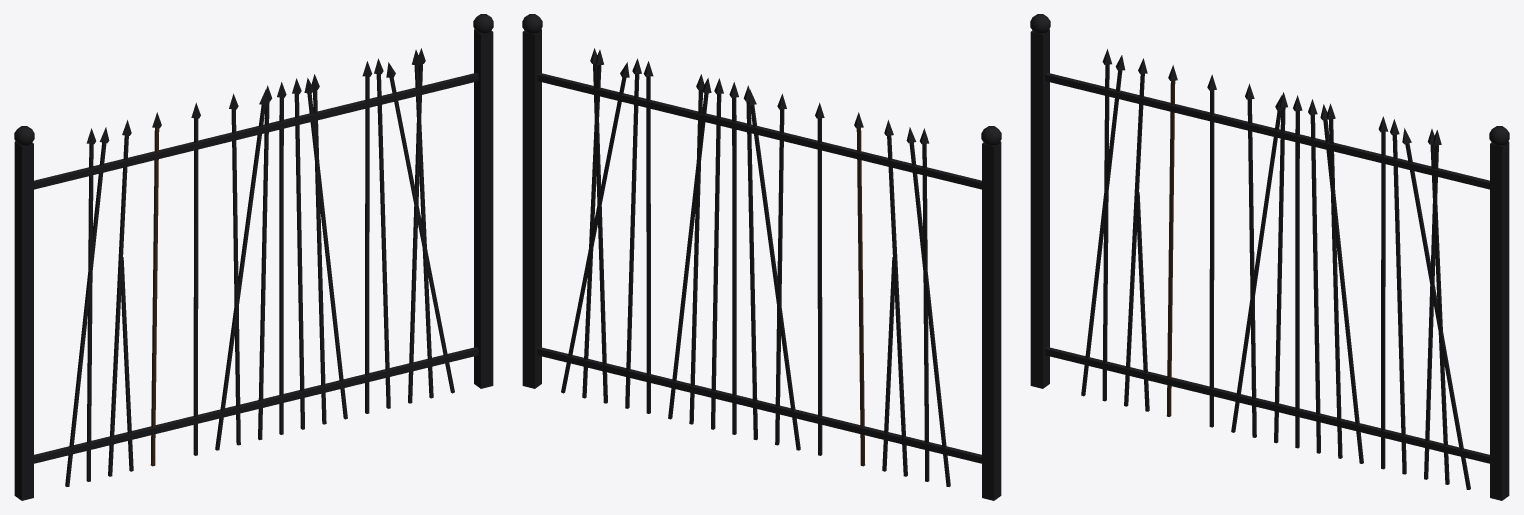
File: SM_80s_IronFence_B.glb
3 renders of one model, left to right at view 1: azimuth 30°, elevation 25°; view 2: azimuth 150°, elevation 25°; view 3: azimuth 330°, elevation 25°, orthographic.
Visible parts, largest first — view 1: SM_80s_IronFence_B; view 2: SM_80s_IronFence_B; view 3: SM_80s_IronFence_B.
Boxes of the visible parts, x1,y1,x2,y2 form: SM_80s_IronFence_B: (14,14,493,500); SM_80s_IronFence_B: (522,14,1001,500); SM_80s_IronFence_B: (1030,14,1509,500).
Size of the model in its own units: 3.12 by 2.31 by 0.12.
